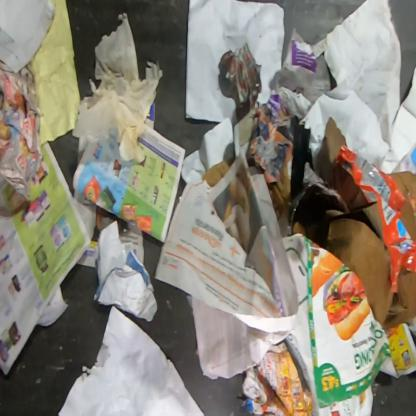cardboard: (292, 117, 415, 330), (389, 170, 415, 241), (201, 156, 235, 188), (268, 164, 292, 209)
soft_plastic: (71, 13, 163, 164), (334, 144, 415, 294)
